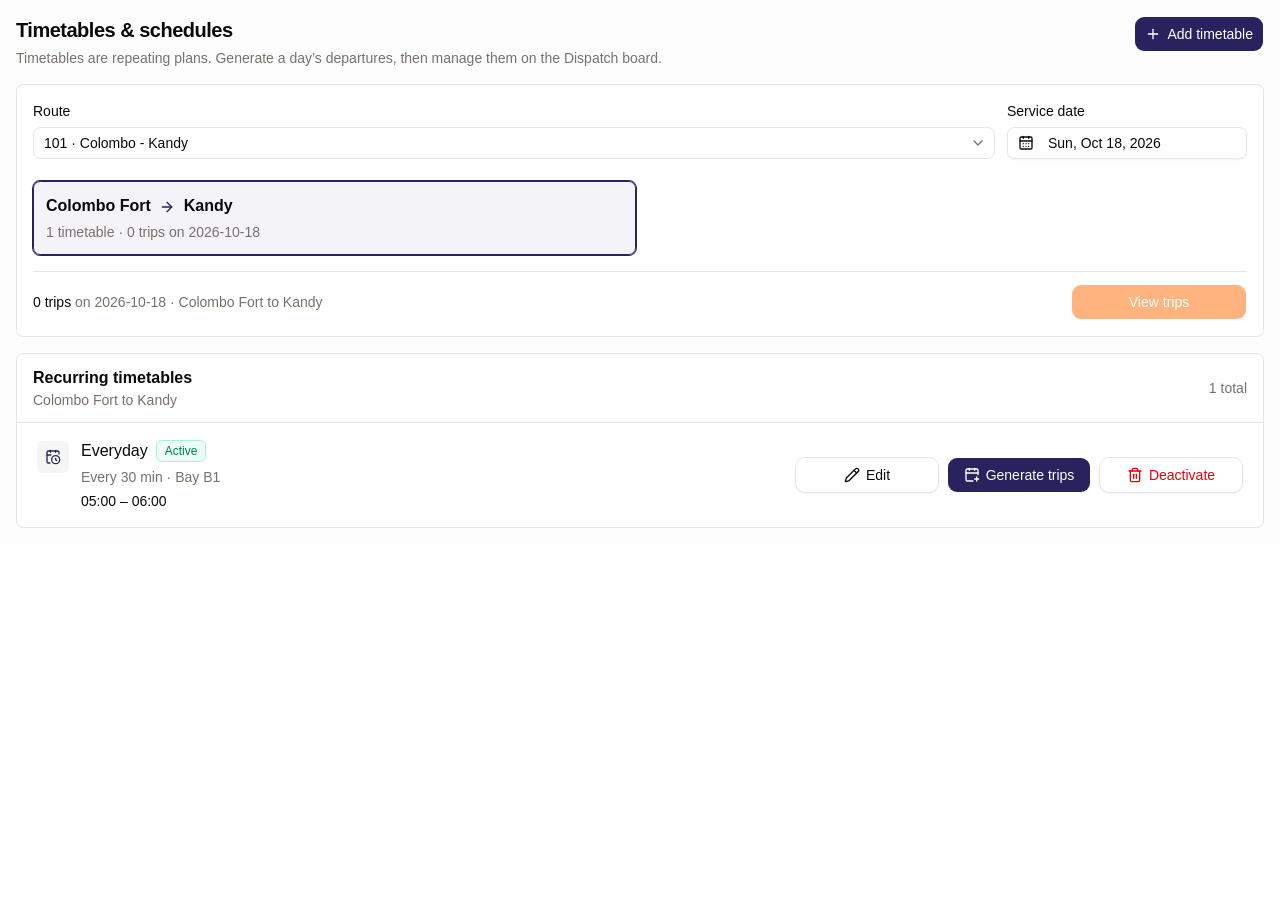
Scenario: TimetablesPage actions › tells the user when trips cannot be generated and keeps the dialog open
What coordinates should you click on to do the following:
click the button "Generate trips"
I would click on:
 (1019, 475)
Its box is 947,457 -> 1091,493.
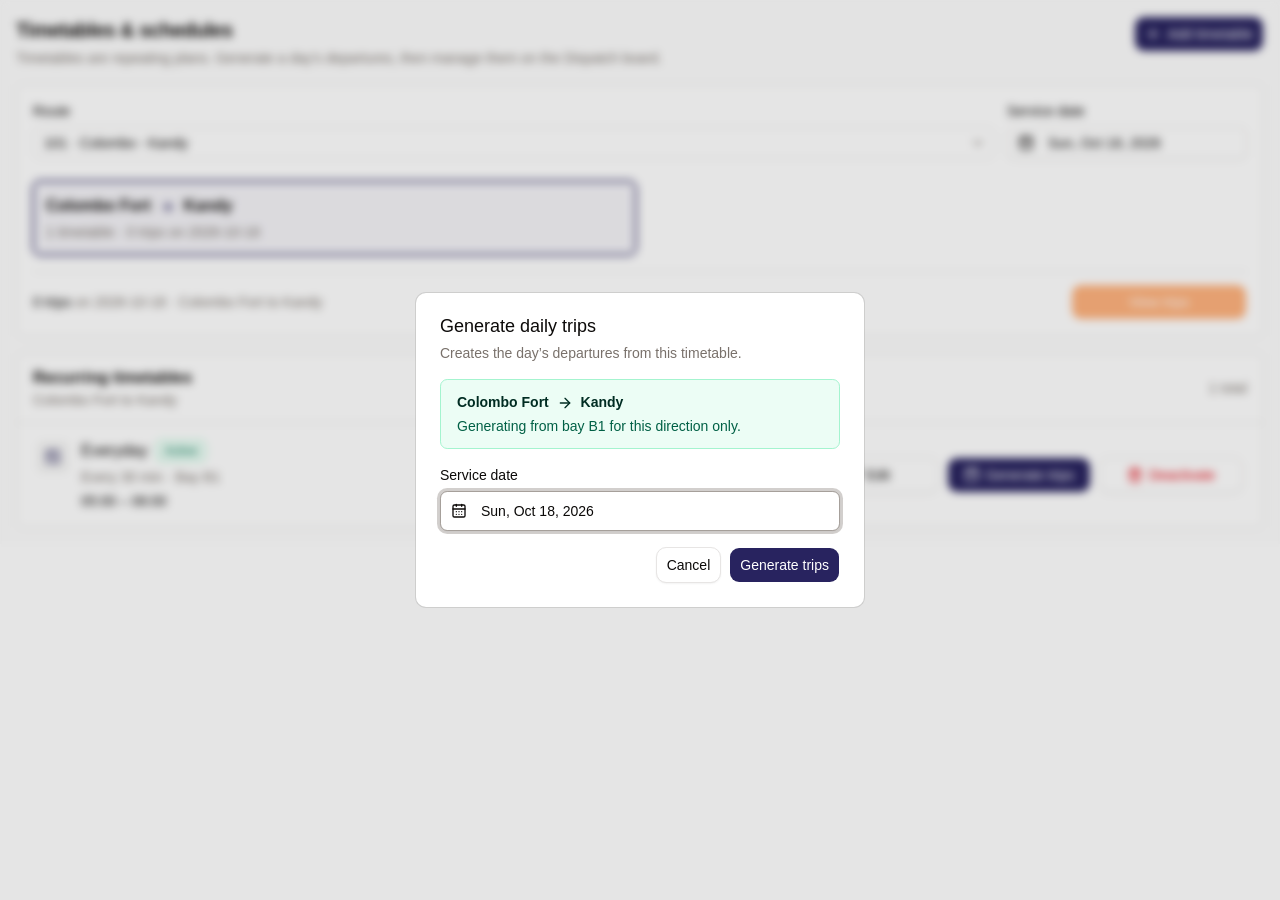
What coordinates should you click on to do the following:
click the button "Generate trips"
I would click on:
 (785, 565)
Its box is 729,547 -> 840,583.
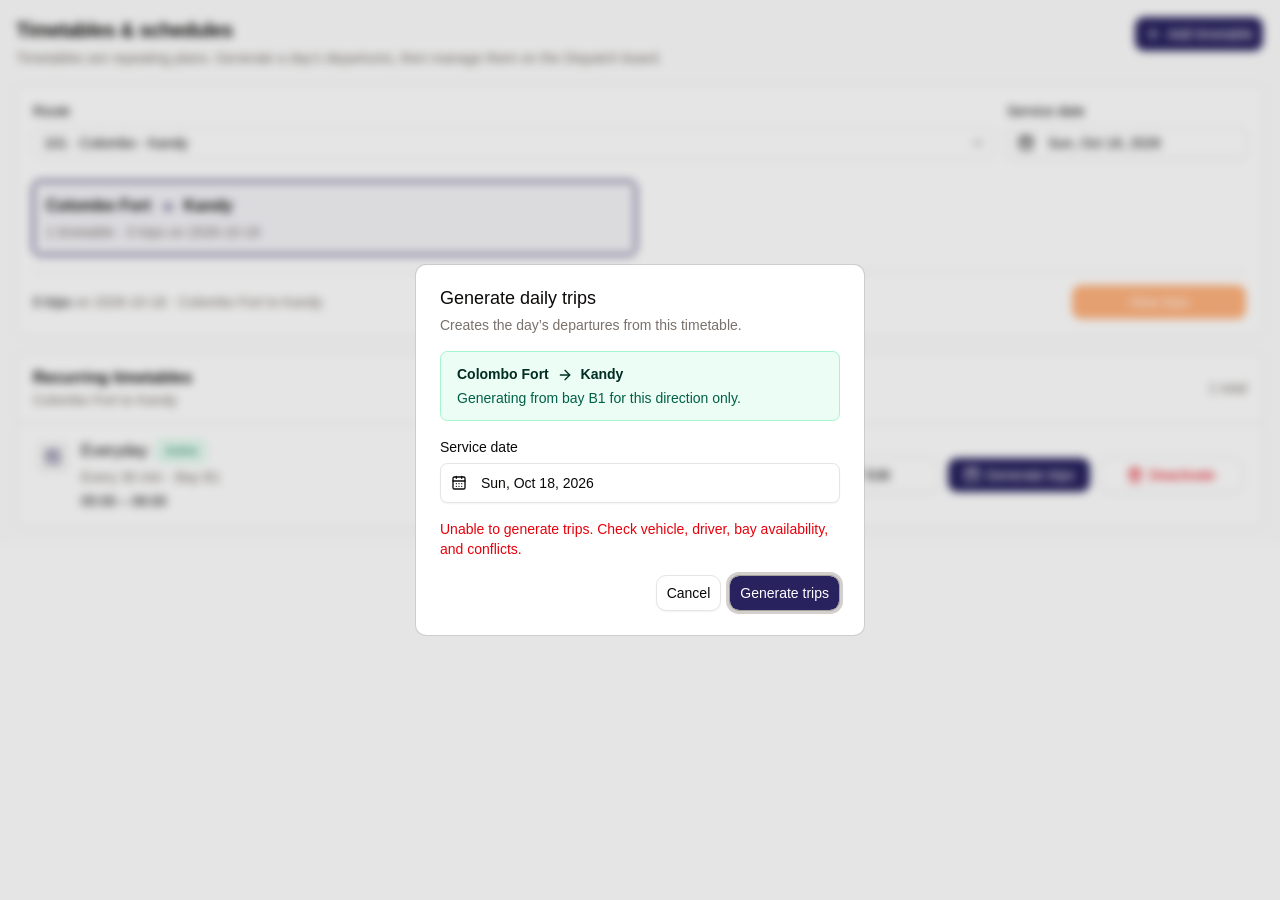
Check: the text "Unable to generate trips" is shown, box 440,521 -> 828,557
